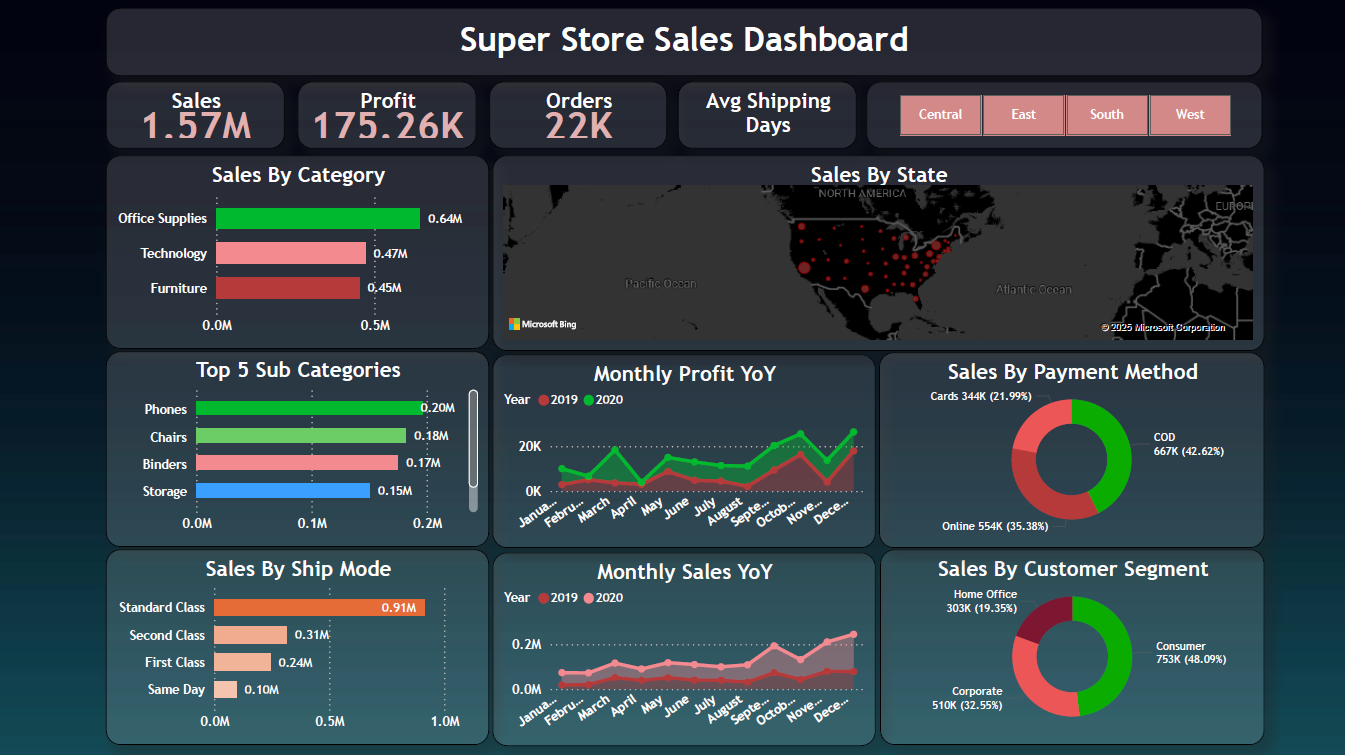

The page's visual inventory and layout, read from the dashboard file:
{"tool":"powerbi","page":{"name":"Primary","canvas":[1280,720],"ordinal":0},"visuals":[{"type":"clusteredBarChart","title":"Sales By Category","fields":{"Category":["SuperStore_Sales_Dataset.Category"],"Y":["Sum(SuperStore_Sales_Dataset.Sales)"]},"box":[102,148.5,363.6,183.8],"z":0},{"type":"clusteredBarChart","title":"Top 5 Sub Categories","fields":{"Category":["SuperStore_Sales_Dataset.Sub-Category"],"Y":["Sum(SuperStore_Sales_Dataset.Sales)"]},"box":[102.4,334.2,363.9,186.1],"z":1000},{"type":"clusteredBarChart","title":"Sales By Ship Mode","fields":{"Category":["SuperStore_Sales_Dataset.Ship Mode"],"Y":["Sum(SuperStore_Sales_Dataset.Sales)"]},"box":[102.4,522.4,363.9,186.1],"z":2000},{"type":"stackedAreaChart","title":"Monthly Sales YoY","fields":{"Category":["SuperStore_Sales_Dataset.Order Date.Variation.Date Hierarchy.Month","SuperStore_Sales_Dataset.Order Date.Variation.Date Hierarchy.Day"],"Y":["Sum(SuperStore_Sales_Dataset.Sales)"],"Series":["SuperStore_Sales_Dataset.Order Date.Variation.Date Hierarchy.Year"]},"box":[468.7,525.2,364.6,183.8],"z":3000},{"type":"stackedAreaChart","title":"Monthly Profit YoY","fields":{"Category":["SuperStore_Sales_Dataset.Order Date.Variation.Date Hierarchy.Month","SuperStore_Sales_Dataset.Order Date.Variation.Date Hierarchy.Day"],"Series":["SuperStore_Sales_Dataset.Order Date.Variation.Date Hierarchy.Year"],"Y":["Sum(SuperStore_Sales_Dataset.Profit)"]},"box":[468.7,337.4,364.6,183.8],"z":4000},{"type":"map","title":"Sales By State","fields":{"Category":["SuperStore_Sales_Dataset.State"],"Size":["Sum(SuperStore_Sales_Dataset.Sales)"]},"box":[468.7,148.5,733.3,185.9],"z":5000},{"type":"donutChart","title":"Sales By Customer Segment","fields":{"Category":["SuperStore_Sales_Dataset.Segment"],"Y":["Sum(SuperStore_Sales_Dataset.Sales)"]},"box":[837.4,522.2,365,186],"z":6000},{"type":"donutChart","title":"Sales By Payment Method","fields":{"Category":["SuperStore_Sales_Dataset.Payment Mode"],"Y":["Sum(SuperStore_Sales_Dataset.Sales)"]},"box":[836.4,335.4,365.7,185.9],"z":7000},{"type":"slicer","fields":{"Values":["SuperStore_Sales_Dataset.Region"]},"box":[824.2,77.8,375.8,64.6],"z":8000},{"type":"textbox","box":[102,8.1,1098,64.6],"z":9000},{"type":"card","title":"Sales","fields":{"Values":["Sum(SuperStore_Sales_Dataset.Sales)"]},"box":[102,77.8,169.7,64.6],"z":10000},{"type":"card","title":"Profit","fields":{"Values":["Sum(SuperStore_Sales_Dataset.Profit)"]},"box":[283.8,77.8,169.7,64.6],"z":11000},{"type":"card","title":"Orders","fields":{"Values":["Sum(SuperStore_Sales_Dataset.Quantity)"]},"box":[465.7,77.8,169.7,64.6],"z":12000},{"type":"card","title":"Avg Shipping Days","fields":{"Values":["Avg(SuperStore_Sales_Dataset.AvgDelivery)"]},"box":[645.5,77.8,169.7,64.6],"z":13000}]}

Visuals, with their boxes in screenshot pixels (x1, y1, x2, y2), scaled from the page's 1280x720 canvas onto the 1345x755 screenshot:
"Sales By Category" clusteredBarChart: select_region(107, 156, 489, 348)
"Top 5 Sub Categories" clusteredBarChart: select_region(108, 350, 490, 546)
"Sales By Ship Mode" clusteredBarChart: select_region(108, 548, 490, 743)
"Monthly Sales YoY" stackedAreaChart: select_region(493, 551, 876, 743)
"Monthly Profit YoY" stackedAreaChart: select_region(493, 354, 876, 547)
"Sales By State" map: select_region(493, 156, 1263, 351)
"Sales By Customer Segment" donutChart: select_region(880, 548, 1263, 743)
"Sales By Payment Method" donutChart: select_region(879, 352, 1263, 547)
slicer - SuperStore_Sales_Dataset.Region: select_region(866, 82, 1261, 149)
textbox: select_region(107, 8, 1261, 76)
"Sales" card: select_region(107, 82, 285, 149)
"Profit" card: select_region(298, 82, 477, 149)
"Orders" card: select_region(489, 82, 668, 149)
"Avg Shipping Days" card: select_region(678, 82, 857, 149)
